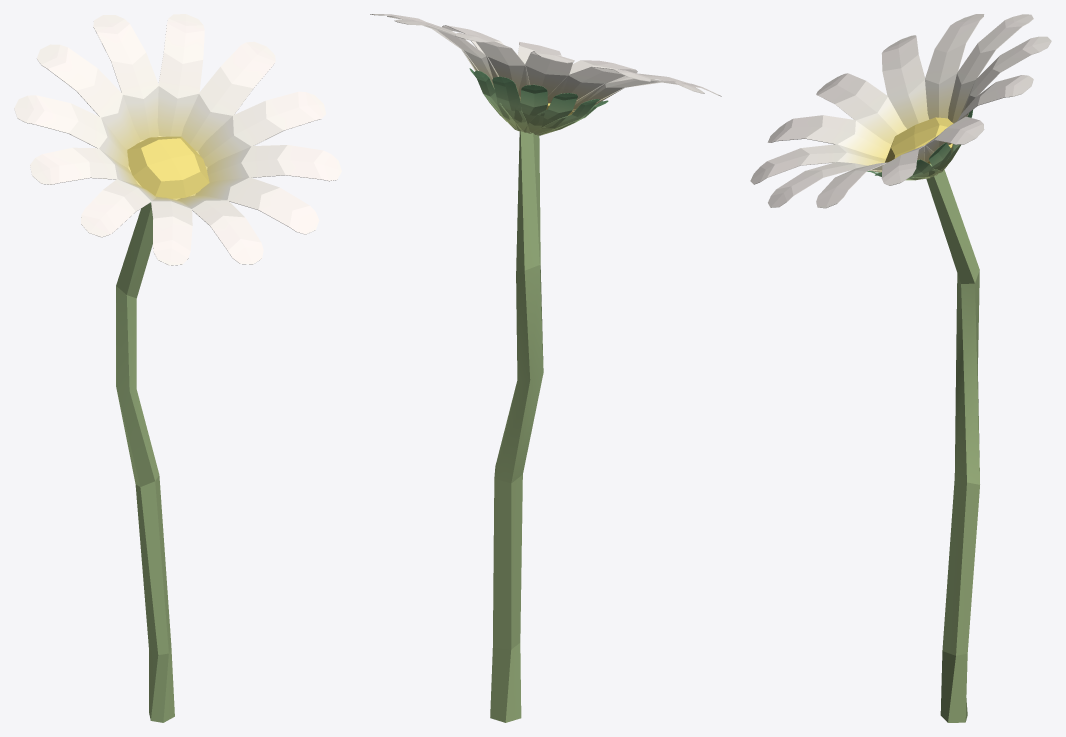
File: Daisy_White.fbx
The picture shows the model from 3 angles, left to right: view 1: azimuth 30°, elevation 25°; view 2: azimuth 150°, elevation 25°; view 3: azimuth 270°, elevation 25°; orthographic projection. The views are drawn at different scales.
Visible parts, largest first — view 1: Daisy_White; view 2: Daisy_White; view 3: Daisy_White.
Part boxes in pixels (bbox=[...]): Daisy_White: bbox=[14, 14, 341, 722]; Daisy_White: bbox=[370, 14, 721, 722]; Daisy_White: bbox=[750, 14, 1051, 722].
Size of the model in its own units: 18.65 by 40.81 by 16.59.
